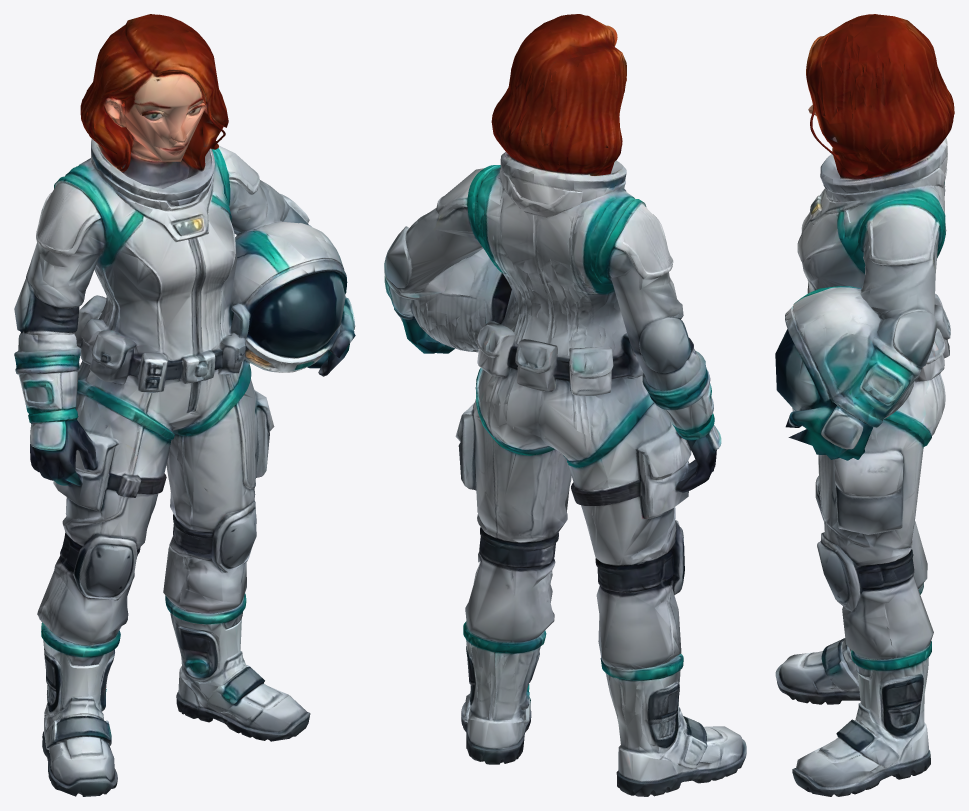
The model's file is avatar-female.glb.
3 renders of one model, left to right at view 1: azimuth 30°, elevation 25°; view 2: azimuth 150°, elevation 25°; view 3: azimuth 270°, elevation 25°, orthographic. The views are drawn at different scales.
Parts seen in each view (by area): view 1: model; view 2: model; view 3: model.
Boxes of the visible parts, bbox=[...] form: model: bbox=[14, 14, 355, 796]; model: bbox=[384, 14, 746, 796]; model: bbox=[775, 14, 954, 796].
Size of the model in its own units: 0.8604 by 1.9 by 0.4262.
1 material, 1 textured.
